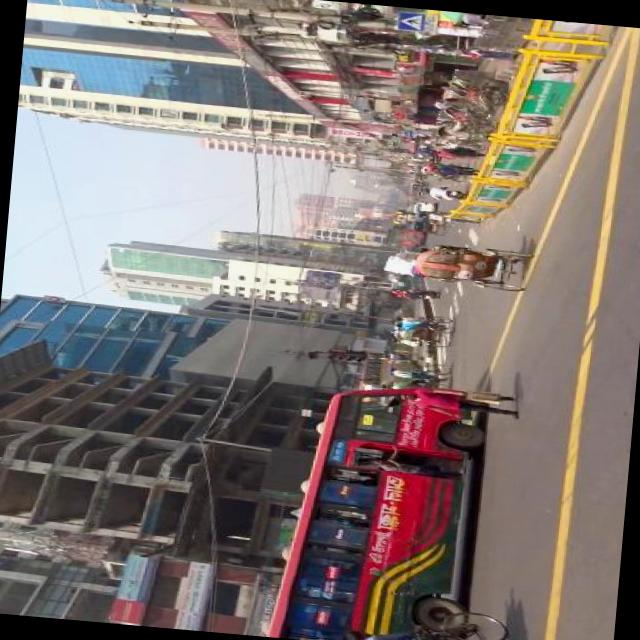bus: (259, 372, 480, 640), (384, 220, 427, 247), (391, 207, 417, 224)
car: (412, 198, 438, 215)
motorcycle: (398, 236, 537, 294), (338, 598, 515, 640), (442, 81, 506, 140), (376, 358, 452, 390), (392, 308, 450, 346), (429, 120, 484, 152), (418, 180, 467, 202), (386, 282, 441, 300), (406, 218, 449, 235)
